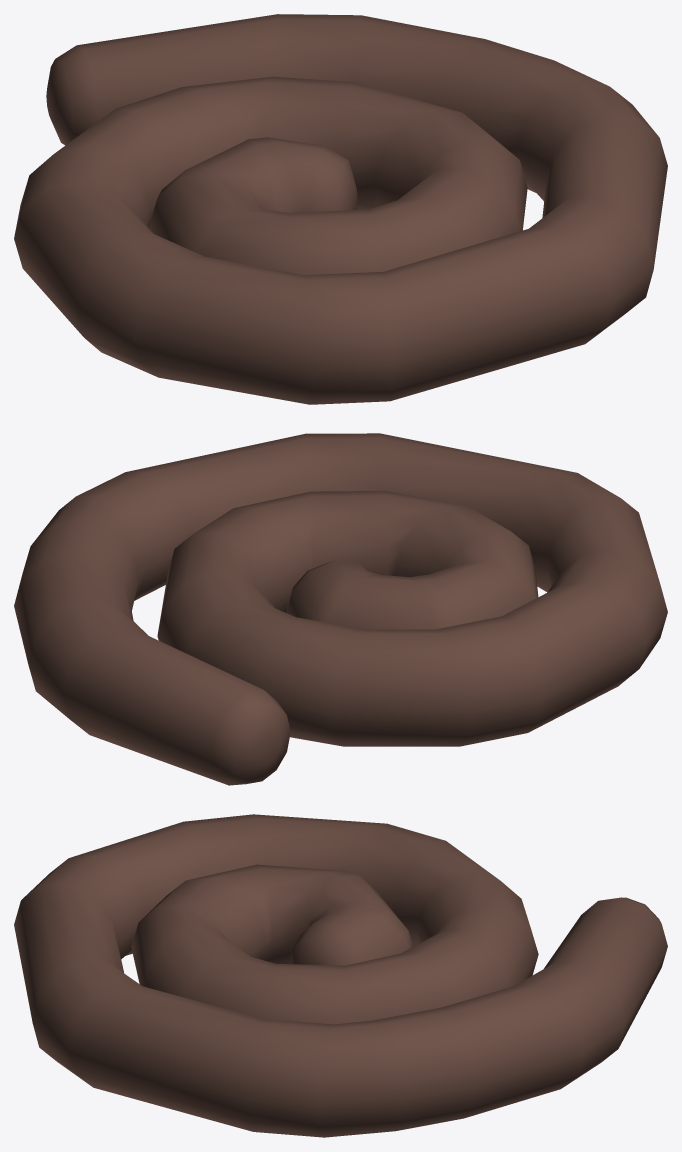
File: Sausage_ring.006.fbx
3 renders of one model, top to bottom at view 1: azimuth 30°, elevation 25°; view 2: azimuth 150°, elevation 25°; view 3: azimuth 270°, elevation 25°, orthographic. The views are drawn at different scales.
Visible parts, largest first — view 1: Sausage_ring.006; view 2: Sausage_ring.006; view 3: Sausage_ring.006.
Boxes of the visible parts, x1=… form: Sausage_ring.006: x1=14, y1=14, x2=667, y2=404; Sausage_ring.006: x1=14, y1=433, x2=667, y2=785; Sausage_ring.006: x1=14, y1=814, x2=667, y2=1137.
Bounding box in the file's own units: 123 × 132 × 22.87.
